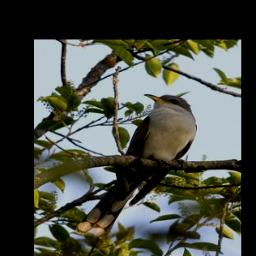Cuckoo: (76, 93, 198, 236)
